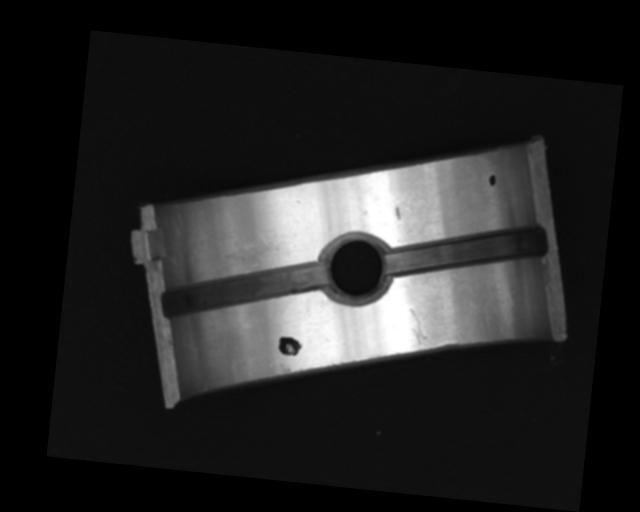blot: (276, 334, 304, 356), (487, 173, 498, 187)
bruise: (394, 205, 402, 221)
gap: (161, 245, 327, 331), (385, 211, 548, 289)
hole: (316, 231, 395, 306)
nick: (405, 307, 430, 351)
scratch: (217, 228, 284, 271)
